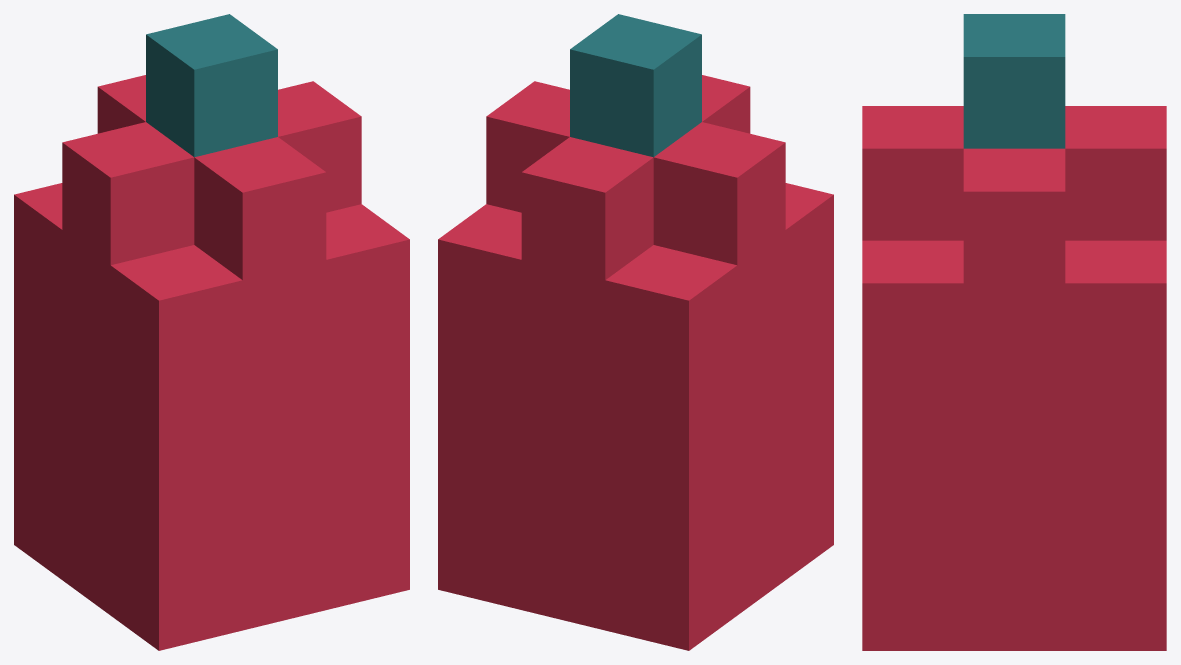
File: Bunker - Free Sample-22-Bottle_Pink-8.obj
3 views of the same model, side by side, from view 1: azimuth 30°, elevation 25°; view 2: azimuth 150°, elevation 25°; view 3: azimuth 270°, elevation 25° (orthographic). The views are drawn at different scales.
Visible parts, largest first — view 1: Bottle_Pink-8; view 2: Bottle_Pink-8; view 3: Bottle_Pink-8.
Boxes of the visible parts, <box> form: Bottle_Pink-8: <box>14,14,409,650</box>; Bottle_Pink-8: <box>438,14,833,650</box>; Bottle_Pink-8: <box>862,14,1166,650</box>.
Size of the model in its own units: 0.06 by 0.12 by 0.06.
1 material, 1 textured.
